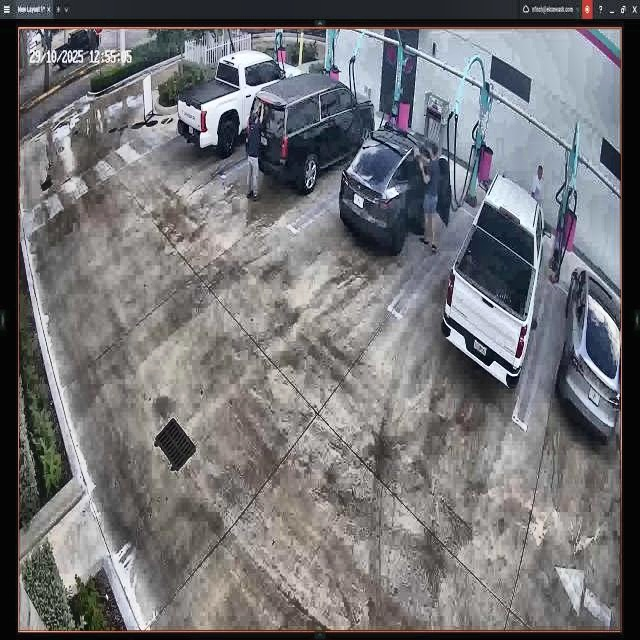Car: (443, 174, 551, 388), (248, 78, 375, 190), (340, 128, 452, 252), (177, 51, 303, 158)
